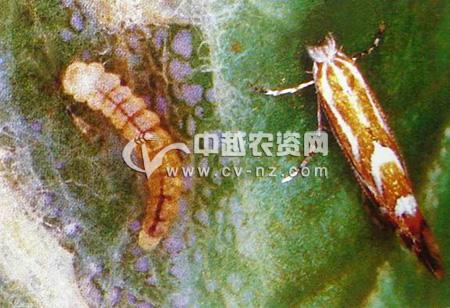grub: (46, 54, 190, 270)
